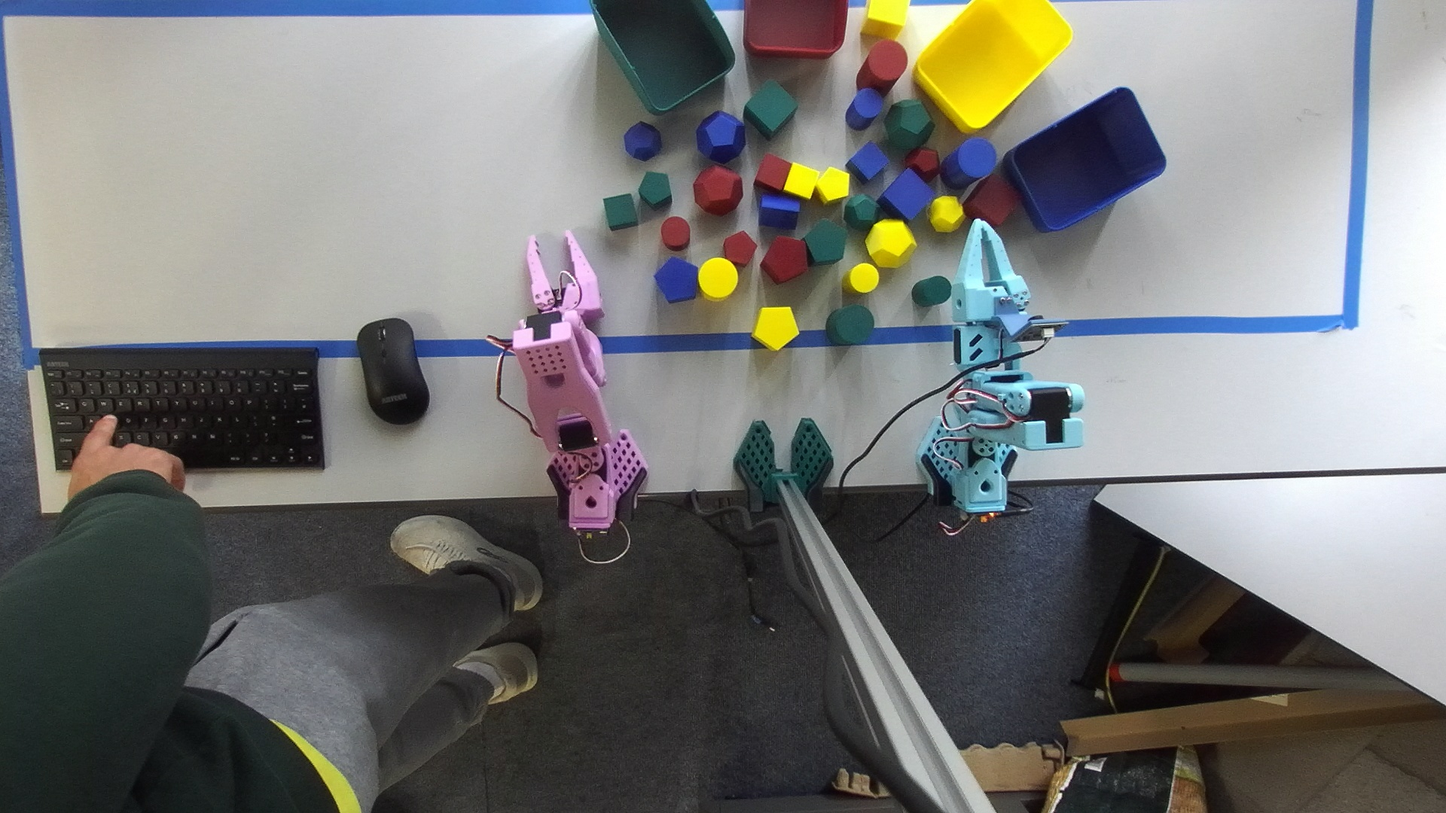bin: (1004, 87, 1166, 231), (914, 0, 1071, 131), (590, 0, 735, 114), (744, 0, 847, 57)
cube: (743, 80, 798, 138), (962, 173, 1020, 227), (878, 169, 934, 221), (860, 0, 909, 38), (845, 142, 889, 182), (754, 154, 791, 191), (783, 163, 819, 199), (603, 193, 638, 230)
cylinder: (856, 38, 908, 96), (941, 137, 996, 189), (825, 305, 874, 345), (845, 88, 883, 130), (698, 258, 737, 298), (911, 276, 951, 306), (843, 263, 878, 293), (660, 216, 690, 250)
dodecahedron: (884, 99, 934, 150), (696, 111, 745, 163), (693, 165, 743, 215), (865, 219, 916, 268), (843, 193, 880, 233), (624, 121, 661, 160), (928, 195, 965, 232), (905, 148, 939, 181)
gripper: (950, 220, 1030, 321), (526, 230, 603, 324)
hexagonal: (760, 236, 807, 282), (751, 306, 798, 350), (803, 219, 847, 264), (654, 257, 697, 303), (758, 192, 800, 230), (815, 166, 850, 203), (722, 230, 757, 266), (638, 172, 672, 207)
